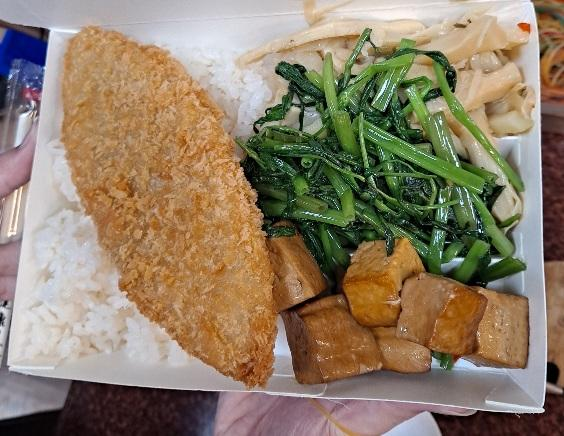big grilled chicken leg: (8, 15, 558, 426)
big herbal chicken leg: (31, 27, 275, 372)
braised fish fillet: (266, 78, 488, 257), (283, 242, 532, 388), (302, 10, 525, 133)
braised pork: (60, 22, 277, 383)
